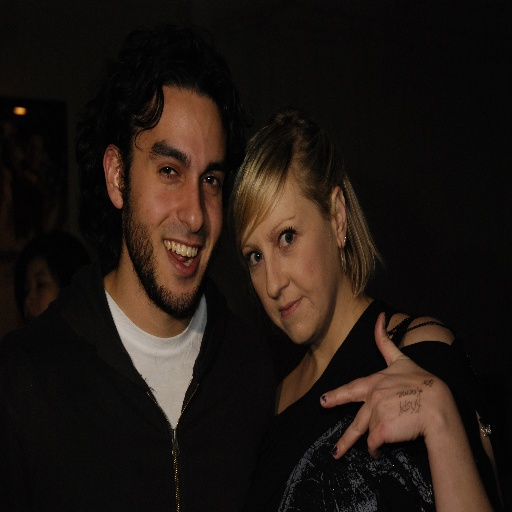hand: (337, 327, 450, 475)
